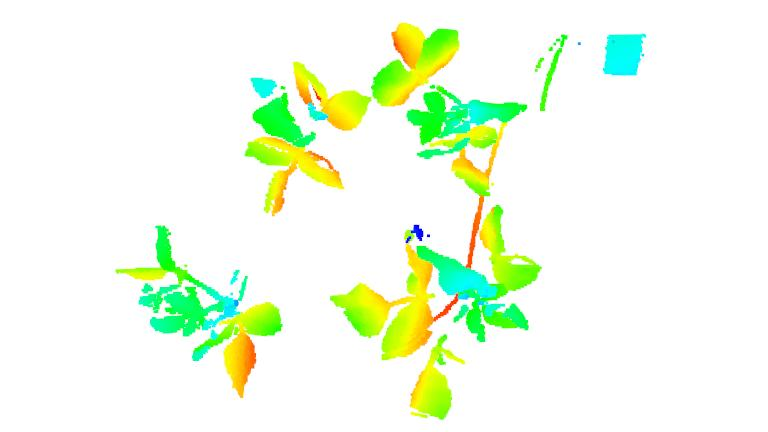mungbean: (330, 203, 550, 424), (115, 219, 288, 397), (365, 20, 522, 198), (240, 60, 370, 215)
